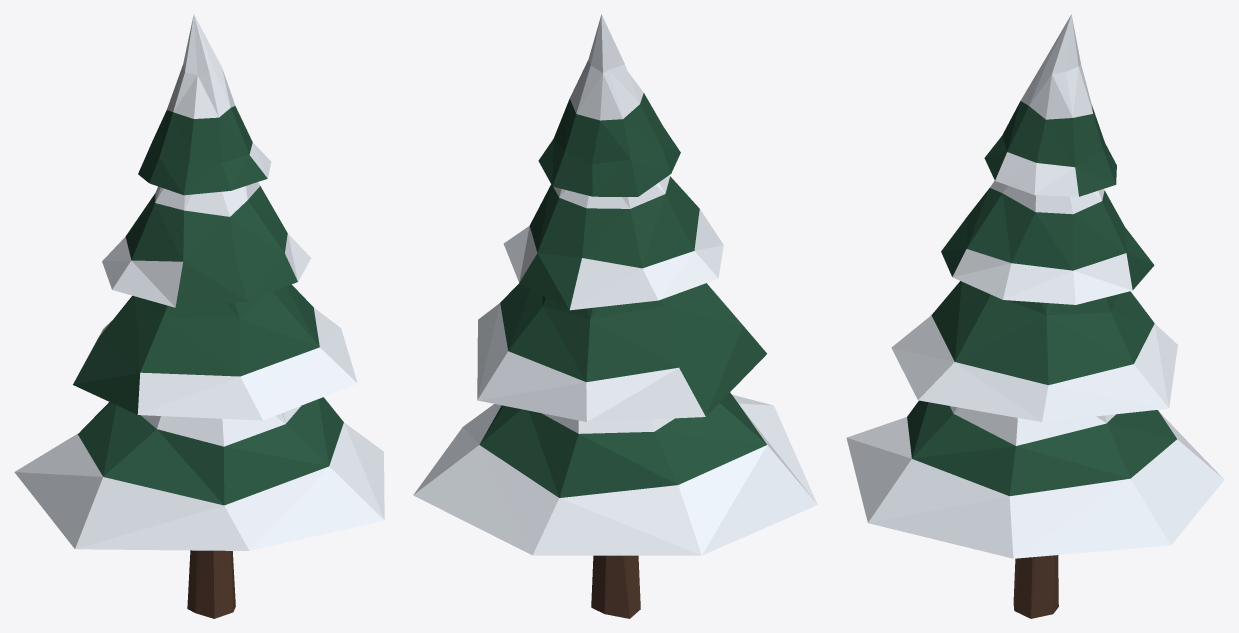
File: pine_leaning.obj
The picture shows the model from 3 angles, left to right: view 1: azimuth 30°, elevation 25°; view 2: azimuth 150°, elevation 25°; view 3: azimuth 270°, elevation 25°; orthographic projection. The views are drawn at different scales.
Visible parts, largest first — view 1: pine_leaning; view 2: pine_leaning; view 3: pine_leaning.
Boxes of the visible parts, x1=… form: pine_leaning: x1=14, y1=14, x2=384, y2=618; pine_leaning: x1=413, y1=14, x2=817, y2=618; pine_leaning: x1=846, y1=14, x2=1224, y2=618.
Size of the model in its own units: 7.44 by 12.77 by 7.37.
Materials: 1 (1 with a texture image).
